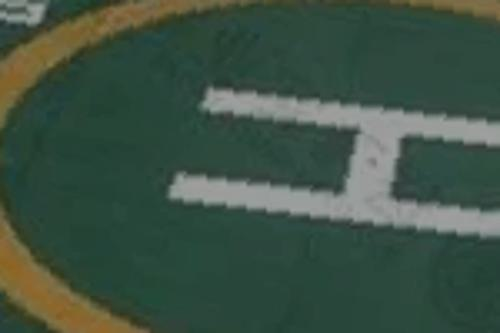Apron: (1, 1, 499, 331)
